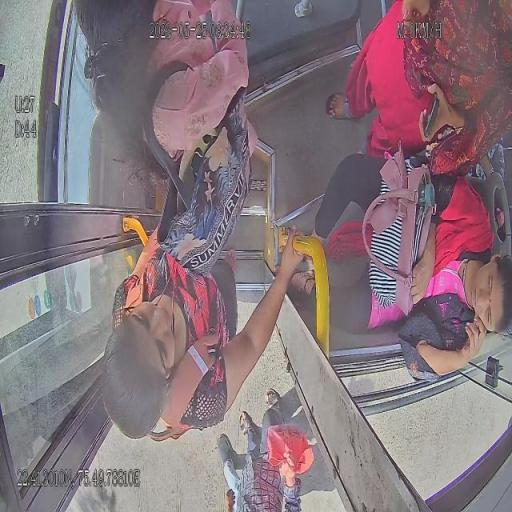persona: (286, 148, 512, 384), (100, 224, 310, 442), (72, 0, 256, 235), (289, 0, 512, 175), (217, 387, 315, 511)
